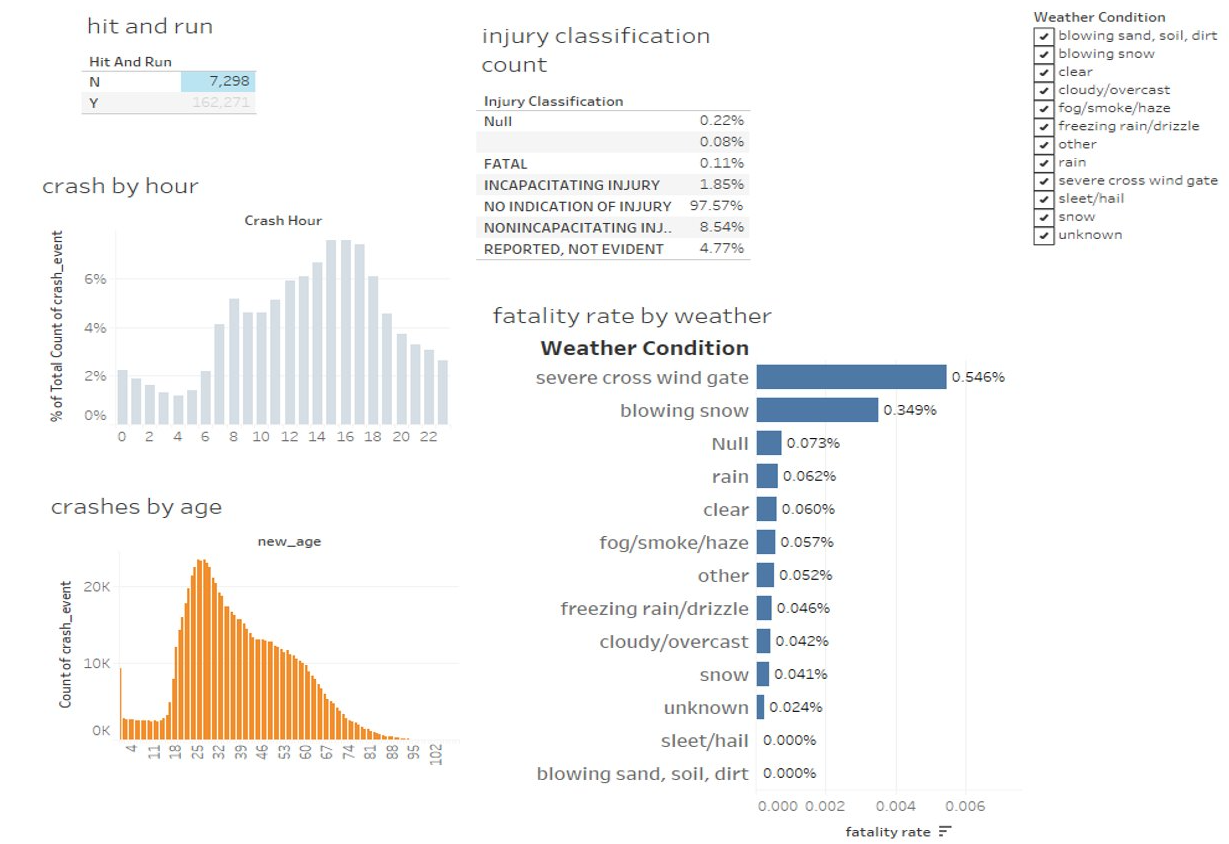

The page's visual inventory and layout, read from the dashboard file:
{"tool":"tableau","page":{"name":"Dashboard 2","canvas":[1000,800],"ordinal":0},"visuals":[{"type":"filter","title":"hit and run","param":"[federated.0yz2c9t1wcjy4314um7ns07lnjh3].[none:weather_condition:nk]","box":[832,8,160,283]},{"type":"worksheet","title":"hit and run","mark":"Automatic","rows":["hit_and_run"],"box":[69,9,403,320]},{"type":"worksheet","title":"injury classification count","mark":"Automatic","rows":["InjuryClassification"],"box":[387,18,333,266]},{"type":"worksheet","title":"crash by hour","mark":"Automatic","cols":["crash_hour"],"box":[33,159,333,266]},{"type":"worksheet","title":"crashes by age","mark":"Automatic","rows":["crash_event_392038648BBB4A87852A24A5F763322D"],"cols":["Calculation_1538260784293629953"],"box":[40,460,333,266]}]}

Visuals, with their boxes on the page's 1000x800 design canvas (x1, y1, x2, y2). These are canvas units, not pixel positions in the 1229x844 screenshot, which may show the page scaled, cropped or inside an application window:
"hit and run" filter: (832,8,992,291)
"hit and run" worksheet: (69,9,472,329)
"injury classification count" worksheet: (387,18,720,284)
"crash by hour" worksheet: (33,159,366,425)
"crashes by age" worksheet: (40,460,373,726)
